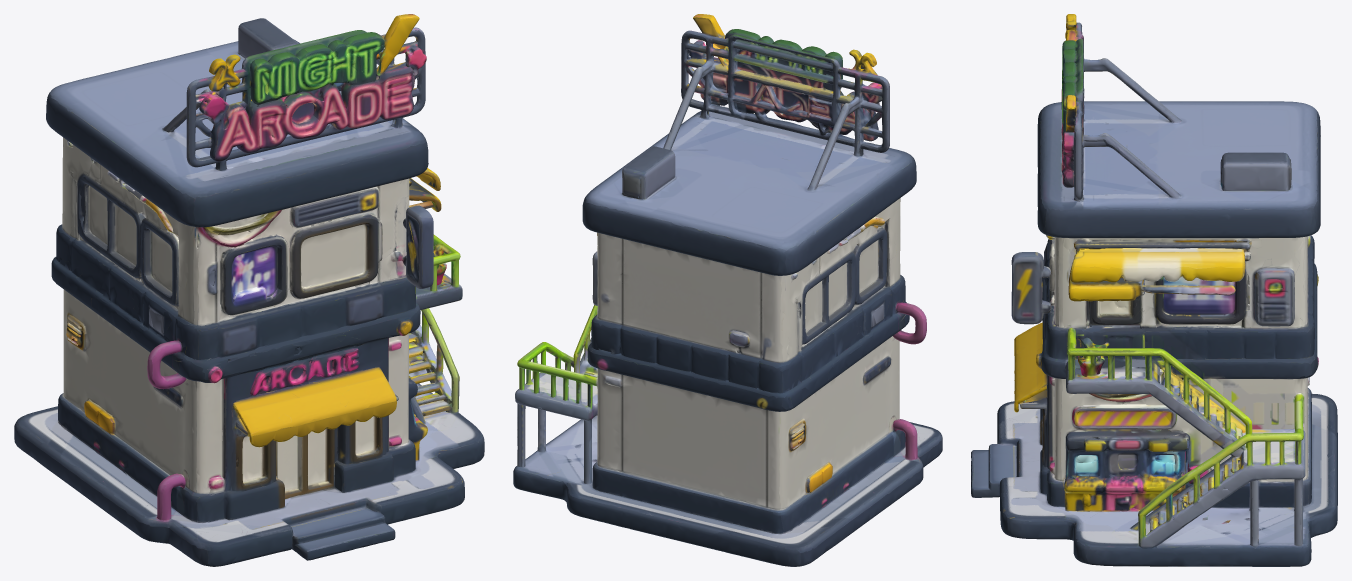
The model's file is u_bld_arcade_b.glb.
The picture shows the model from 3 angles, left to right: view 1: azimuth 30°, elevation 25°; view 2: azimuth 150°, elevation 25°; view 3: azimuth 270°, elevation 25°; orthographic projection. The views are drawn at different scales.
Parts seen in each view (by area): view 1: geometry_0; view 2: geometry_0; view 3: geometry_0.
Part boxes in pixels (bbox=[...]): geometry_0: bbox=[14, 14, 484, 566]; geometry_0: bbox=[513, 14, 942, 566]; geometry_0: bbox=[971, 14, 1337, 566].
Bounding box in the file's own units: 0.351 × 0.45 × 0.3486.
Materials: 1 (1 with a texture image).
